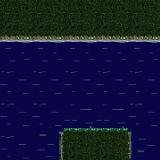Interaction: (0, 26, 160, 52)
Slow: (0, 42, 58, 160), (58, 42, 134, 128), (133, 43, 160, 160)
